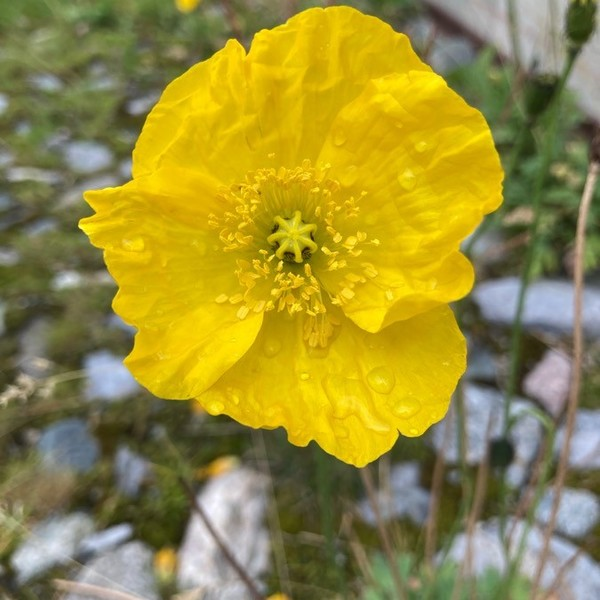obstacle: (38, 9, 494, 491)
